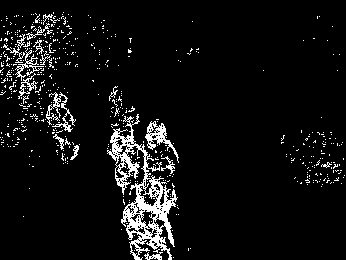person: (125, 180, 178, 260), (143, 122, 193, 199), (107, 124, 141, 205), (43, 91, 79, 164)
